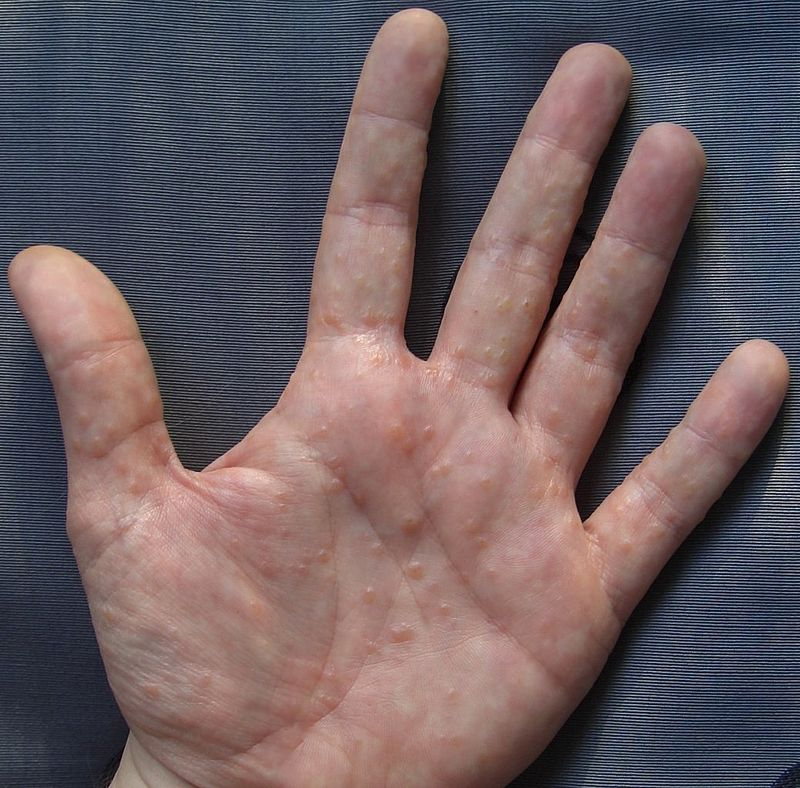Diseased: (51, 177, 676, 727)
